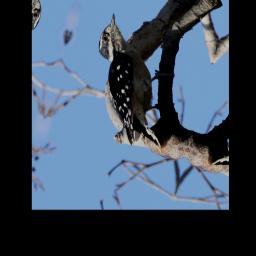Woodpecker: (73, 8, 192, 156)
